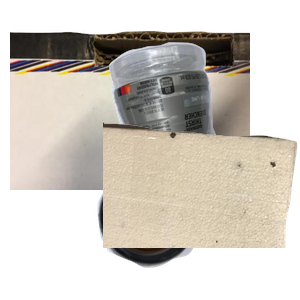cardboard: (10, 29, 250, 209)
glass: (95, 164, 286, 300)
plastic: (106, 40, 300, 220)
trash: (103, 120, 300, 300)
